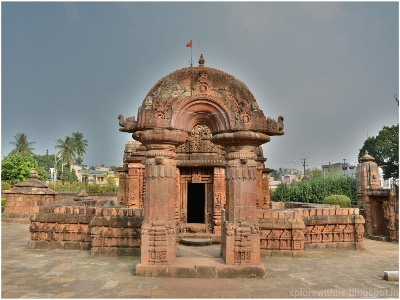torana: (118, 58, 284, 262)
